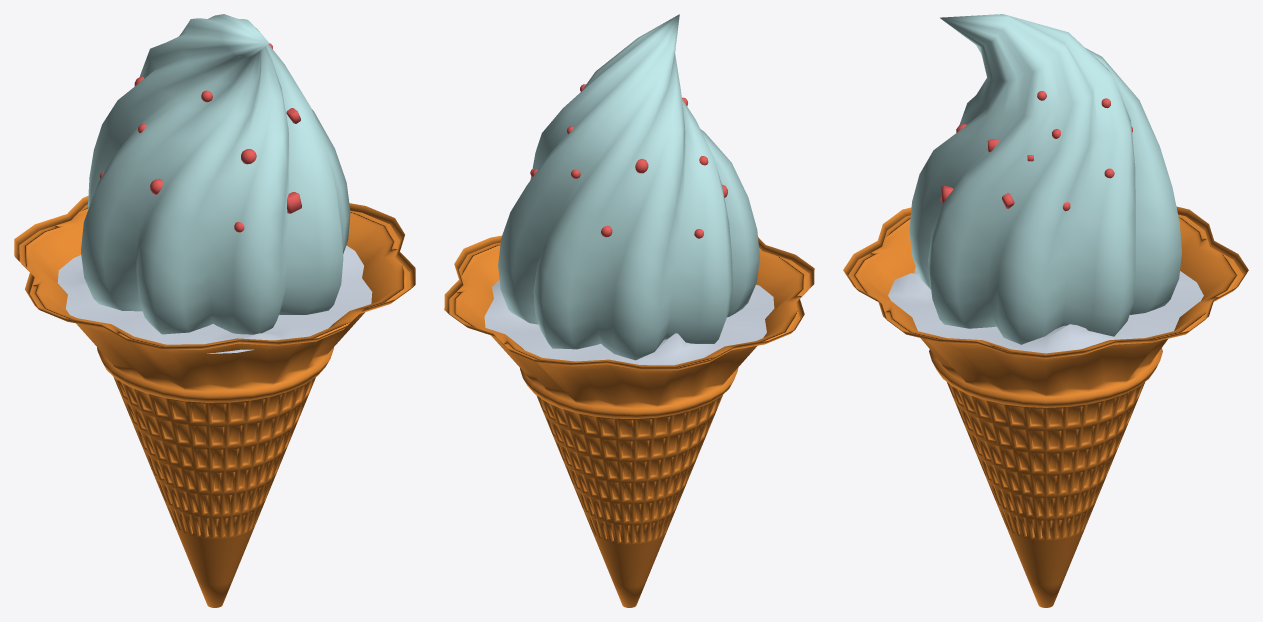
File: icecream.glb
The picture shows the model from 3 angles, left to right: view 1: azimuth 30°, elevation 25°; view 2: azimuth 150°, elevation 25°; view 3: azimuth 270°, elevation 25°; orthographic projection. The views are drawn at different scales.
Visible parts, largest first — view 1: 球体, 甜筒, 甜筒.001; view 2: 球体, 甜筒, 甜筒.001; view 3: 球体, 甜筒, 甜筒.001.
Boxes of the visible parts, x1,y1,x2,y2 form: 球体: (81,14,350,334); 甜筒: (14,196,415,607); 甜筒.001: (57,245,372,353); 球体: (498,14,759,360); 甜筒: (444,235,814,607); 甜筒.001: (484,280,774,365); 球体: (909,14,1181,344); 甜筒: (843,206,1248,607); 甜筒.001: (888,267,1203,353).
Size of the model in its own units: 2.88 by 4.59 by 2.88.
